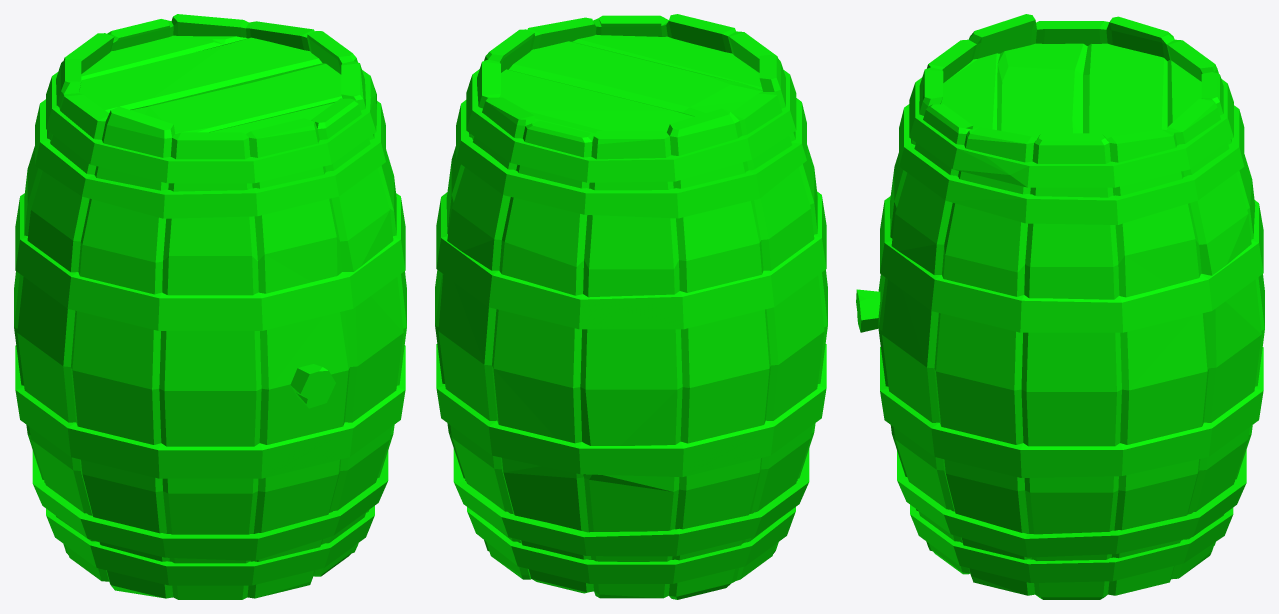
File: SM_Barrel_Wood_B_Closed_Fantasy.fbx
The picture shows the model from 3 angles, left to right: view 1: azimuth 30°, elevation 25°; view 2: azimuth 150°, elevation 25°; view 3: azimuth 270°, elevation 25°; orthographic projection.
Visible parts, largest first — view 1: barrel-wood-b-closed-fantasy; view 2: barrel-wood-b-closed-fantasy; view 3: barrel-wood-b-closed-fantasy.
Boxes of the visible parts, x1=… form: barrel-wood-b-closed-fantasy: x1=14, y1=14, x2=406, y2=599; barrel-wood-b-closed-fantasy: x1=435, y1=14, x2=827, y2=599; barrel-wood-b-closed-fantasy: x1=856, y1=14, x2=1264, y2=599.
Size of the model in its own units: 0.9461 by 1.27 by 1.
